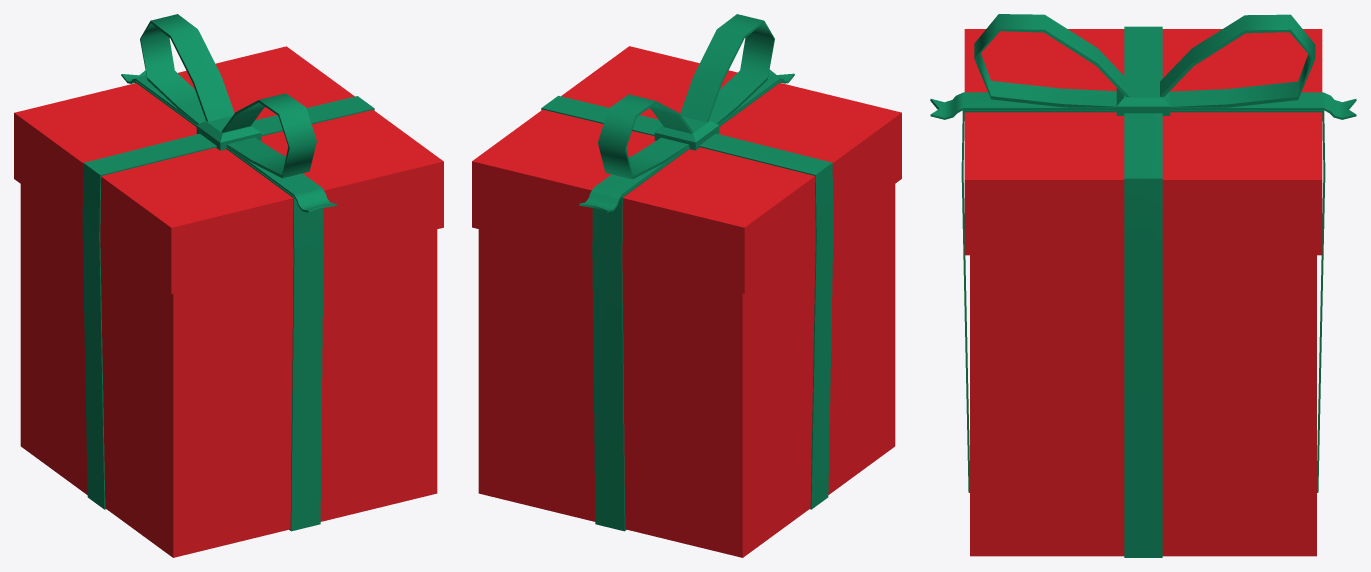
File: MM_Present.fbx
The picture shows the model from 3 angles, left to right: view 1: azimuth 30°, elevation 25°; view 2: azimuth 150°, elevation 25°; view 3: azimuth 270°, elevation 25°; orthographic projection. The views are drawn at different scales.
Visible parts, largest first — view 1: MM_Present; view 2: MM_Present; view 3: MM_Present.
Part boxes in pixels (<box>): MM_Present: <box>14,14,443,557</box>; MM_Present: <box>472,14,901,557</box>; MM_Present: <box>930,14,1356,557</box>.
Bounding box in the file's own units: 24.71 × 34.87 × 29.08.
